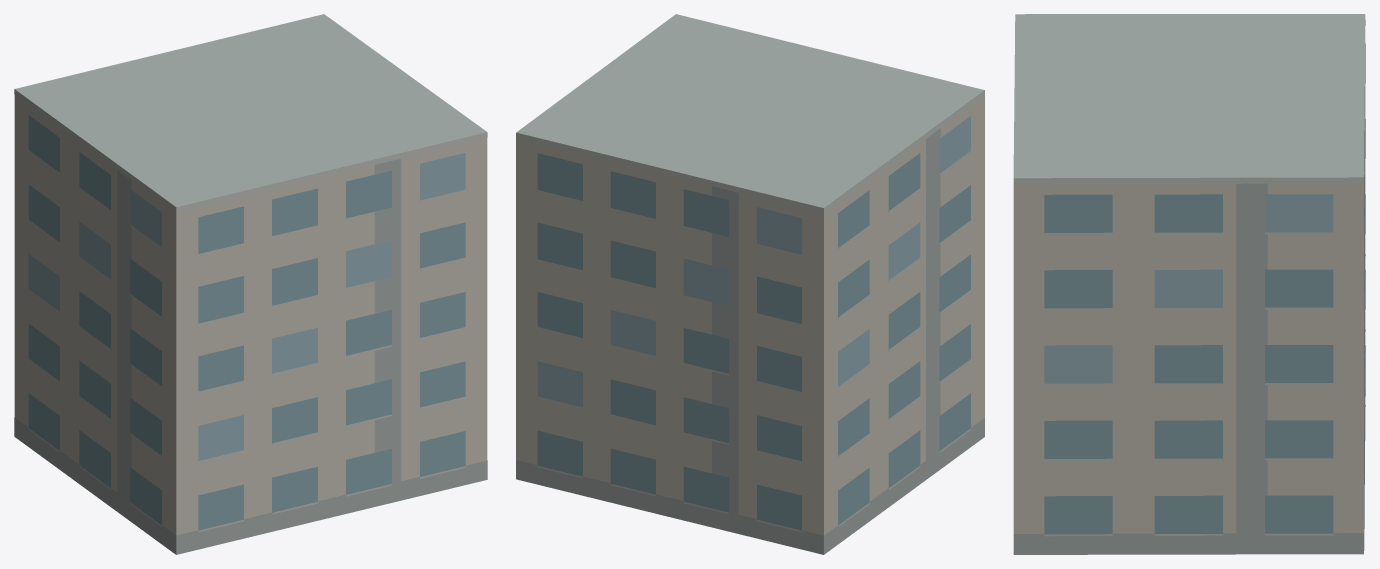
File: survey-upis-32822476.glb
3 views of the same model, side by side, from view 1: azimuth 30°, elevation 25°; view 2: azimuth 150°, elevation 25°; view 3: azimuth 270°, elevation 25° (orthographic). The views are drawn at different scales.
Visible parts, largest first — view 1: survey-upis-32822476.tmp; view 2: survey-upis-32822476.tmp; view 3: survey-upis-32822476.tmp.
Boxes of the visible parts, x1,y1,x2,y2 form: survey-upis-32822476.tmp: [14, 14, 487, 554]; survey-upis-32822476.tmp: [516, 14, 984, 554]; survey-upis-32822476.tmp: [1013, 14, 1365, 554].
Size of the model in its own units: 14.04 by 15 by 12.72.
